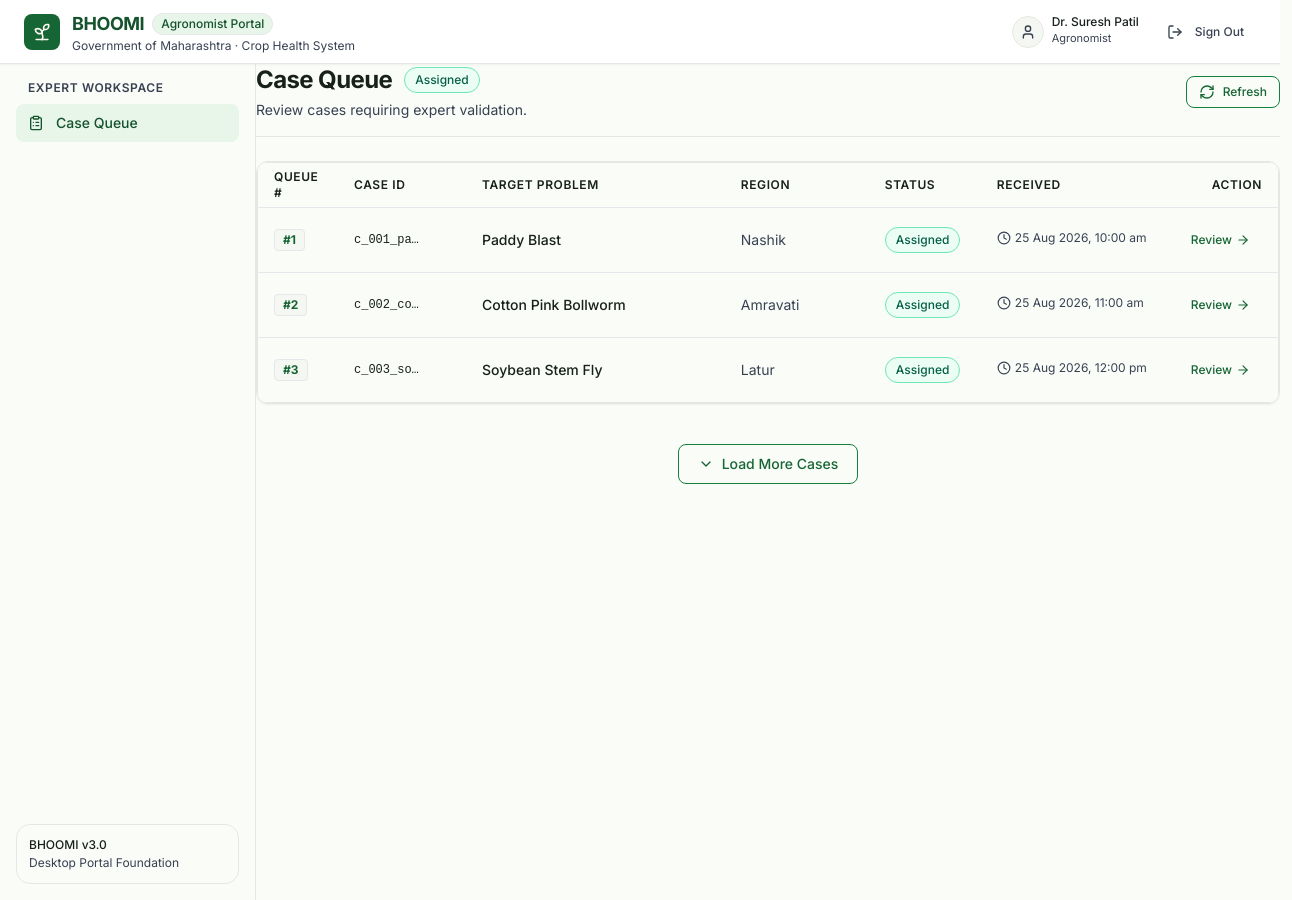
Scenario: F12 — Agronomist Case Queue Tests › navigates to /agronomist/cases/:caseId when a case row or review button is activated
Expected: the text "Paddy Blast" is shown, [482,230,561,248]
What coordinates should you click on to do the following:
click the button with aria-label "review case c_001_paddy"
I would click on:
 (1220, 240)
Its box is [1179,224,1262,256].
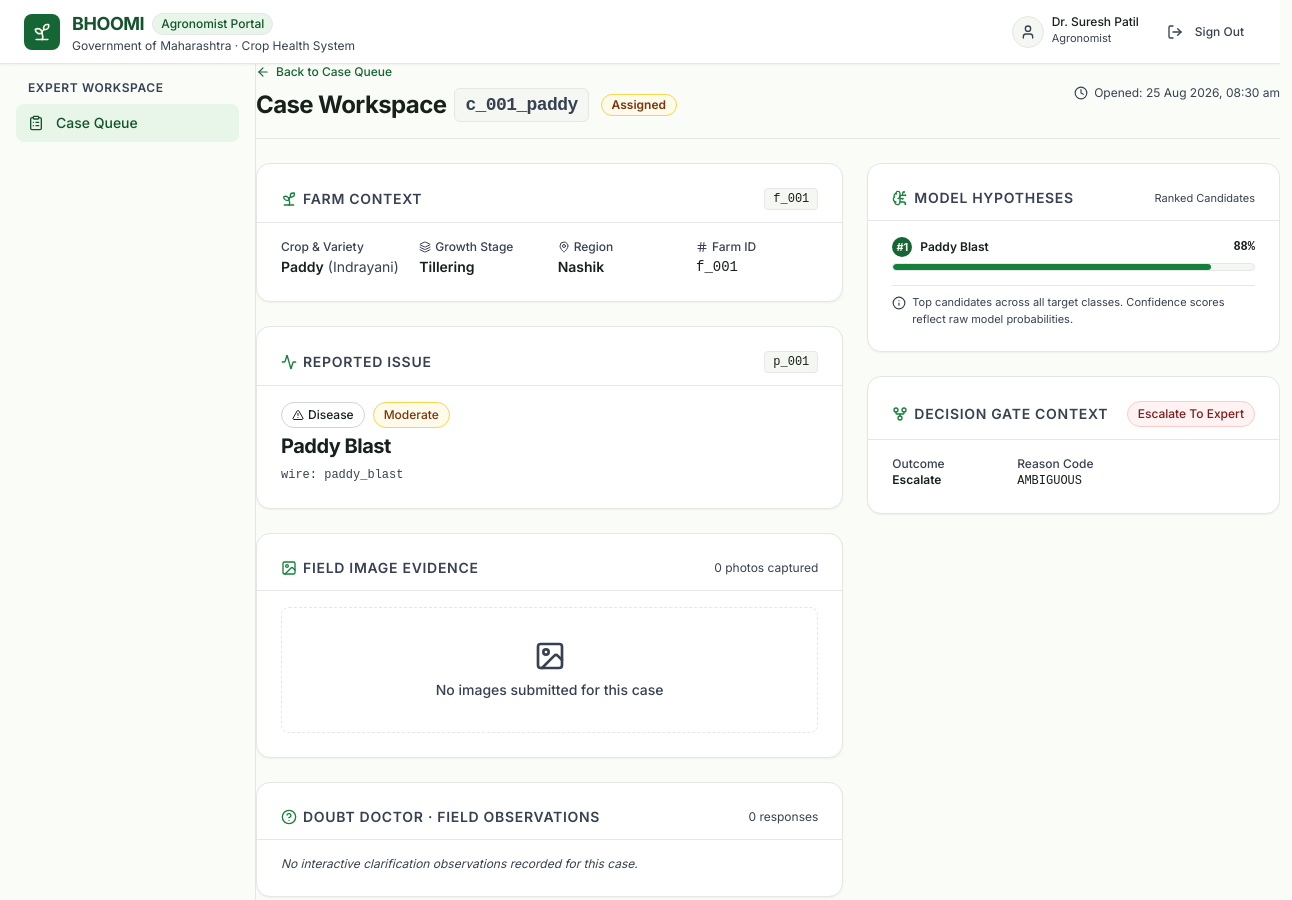
Result: the text "Case Workspace" is shown at [256,89,446,121]
Result: the text "c_001_paddy" is shown at [454,88,589,122]
